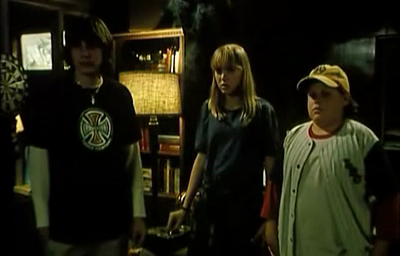face: (308, 85, 336, 120), (72, 38, 100, 72), (215, 63, 239, 94)
ms: (1, 1, 400, 256)
person: (25, 15, 146, 255), (259, 64, 388, 256), (167, 43, 283, 256)
